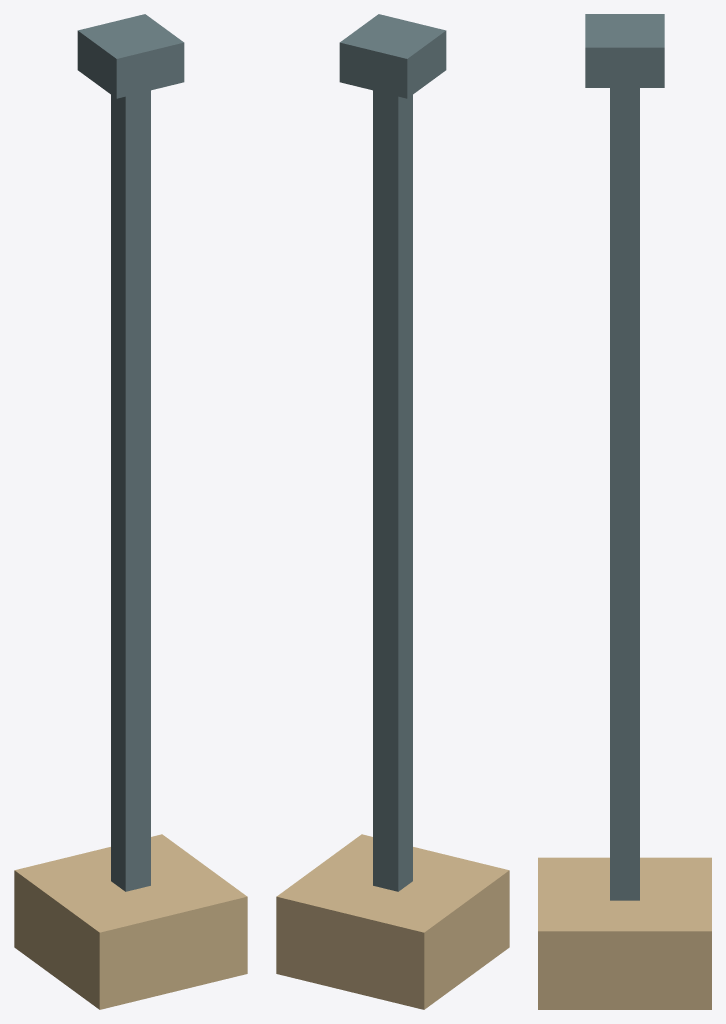
Rendered from Lightning-rod.glb.
3 views of the same model, side by side, from view 1: azimuth 30°, elevation 25°; view 2: azimuth 150°, elevation 25°; view 3: azimuth 270°, elevation 25° (orthographic).
Visible parts, largest first — view 1: lightning-rod-static-rod-metal, lightning-rod-static-rod-stone; view 2: lightning-rod-static-rod-metal, lightning-rod-static-rod-stone; view 3: lightning-rod-static-rod-metal, lightning-rod-static-rod-stone.
Boxes of the visible parts, x1=… form: lightning-rod-static-rod-metal: x1=77, y1=14, x2=184, y2=891; lightning-rod-static-rod-stone: x1=14, y1=834, x2=247, y2=1009; lightning-rod-static-rod-metal: x1=339, y1=14, x2=446, y2=891; lightning-rod-static-rod-stone: x1=276, y1=834, x2=509, y2=1009; lightning-rod-static-rod-metal: x1=585, y1=14, x2=664, y2=900; lightning-rod-static-rod-stone: x1=538, y1=857, x2=711, y2=1009.
Size of the model in its own units: 0.7 by 4.19 by 0.7.
